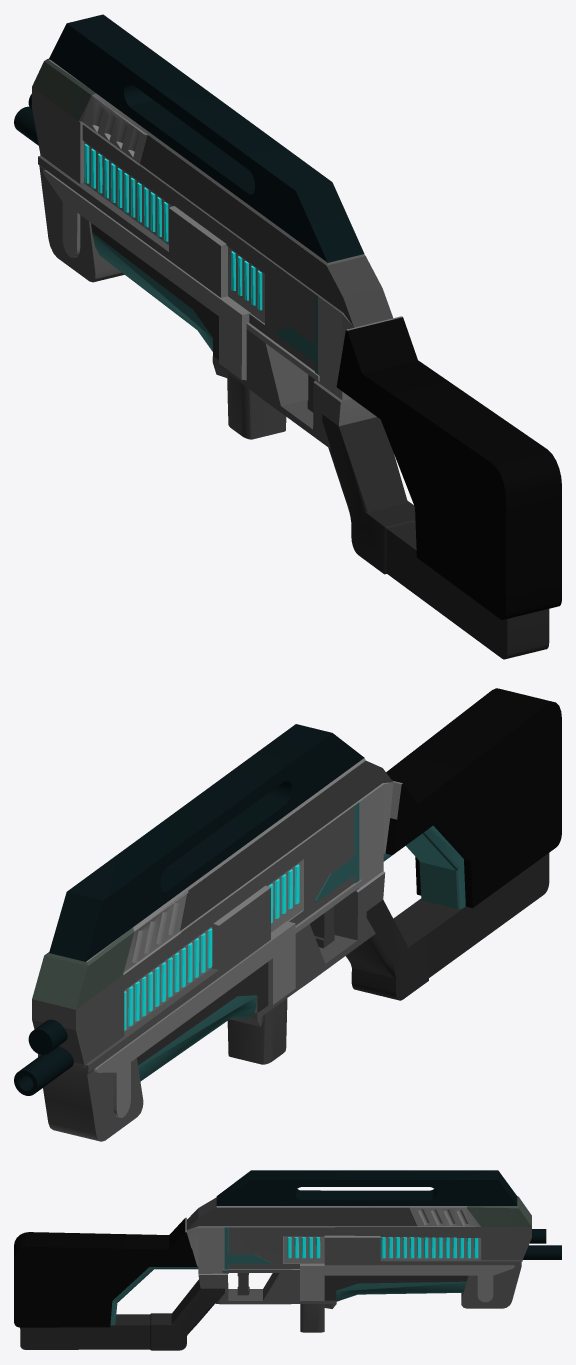
The model's file is Sci Fi SMG.fbx.
3 views of the same model, one above another, from view 1: azimuth 30°, elevation 25°; view 2: azimuth 150°, elevation 25°; view 3: azimuth 270°, elevation 25° (orthographic). The views are drawn at different scales.
Visible parts, largest first — view 1: Cube.008; view 2: Cube.008; view 3: Cube.008.
Part boxes in pixels (box(x1,y1,x2,y2)): Cube.008: box(14, 14, 561, 659); Cube.008: box(14, 688, 561, 1141); Cube.008: box(14, 1170, 561, 1350).
Bounding box in the file's own units: 0.1124 × 0.6054 × 1.77.
